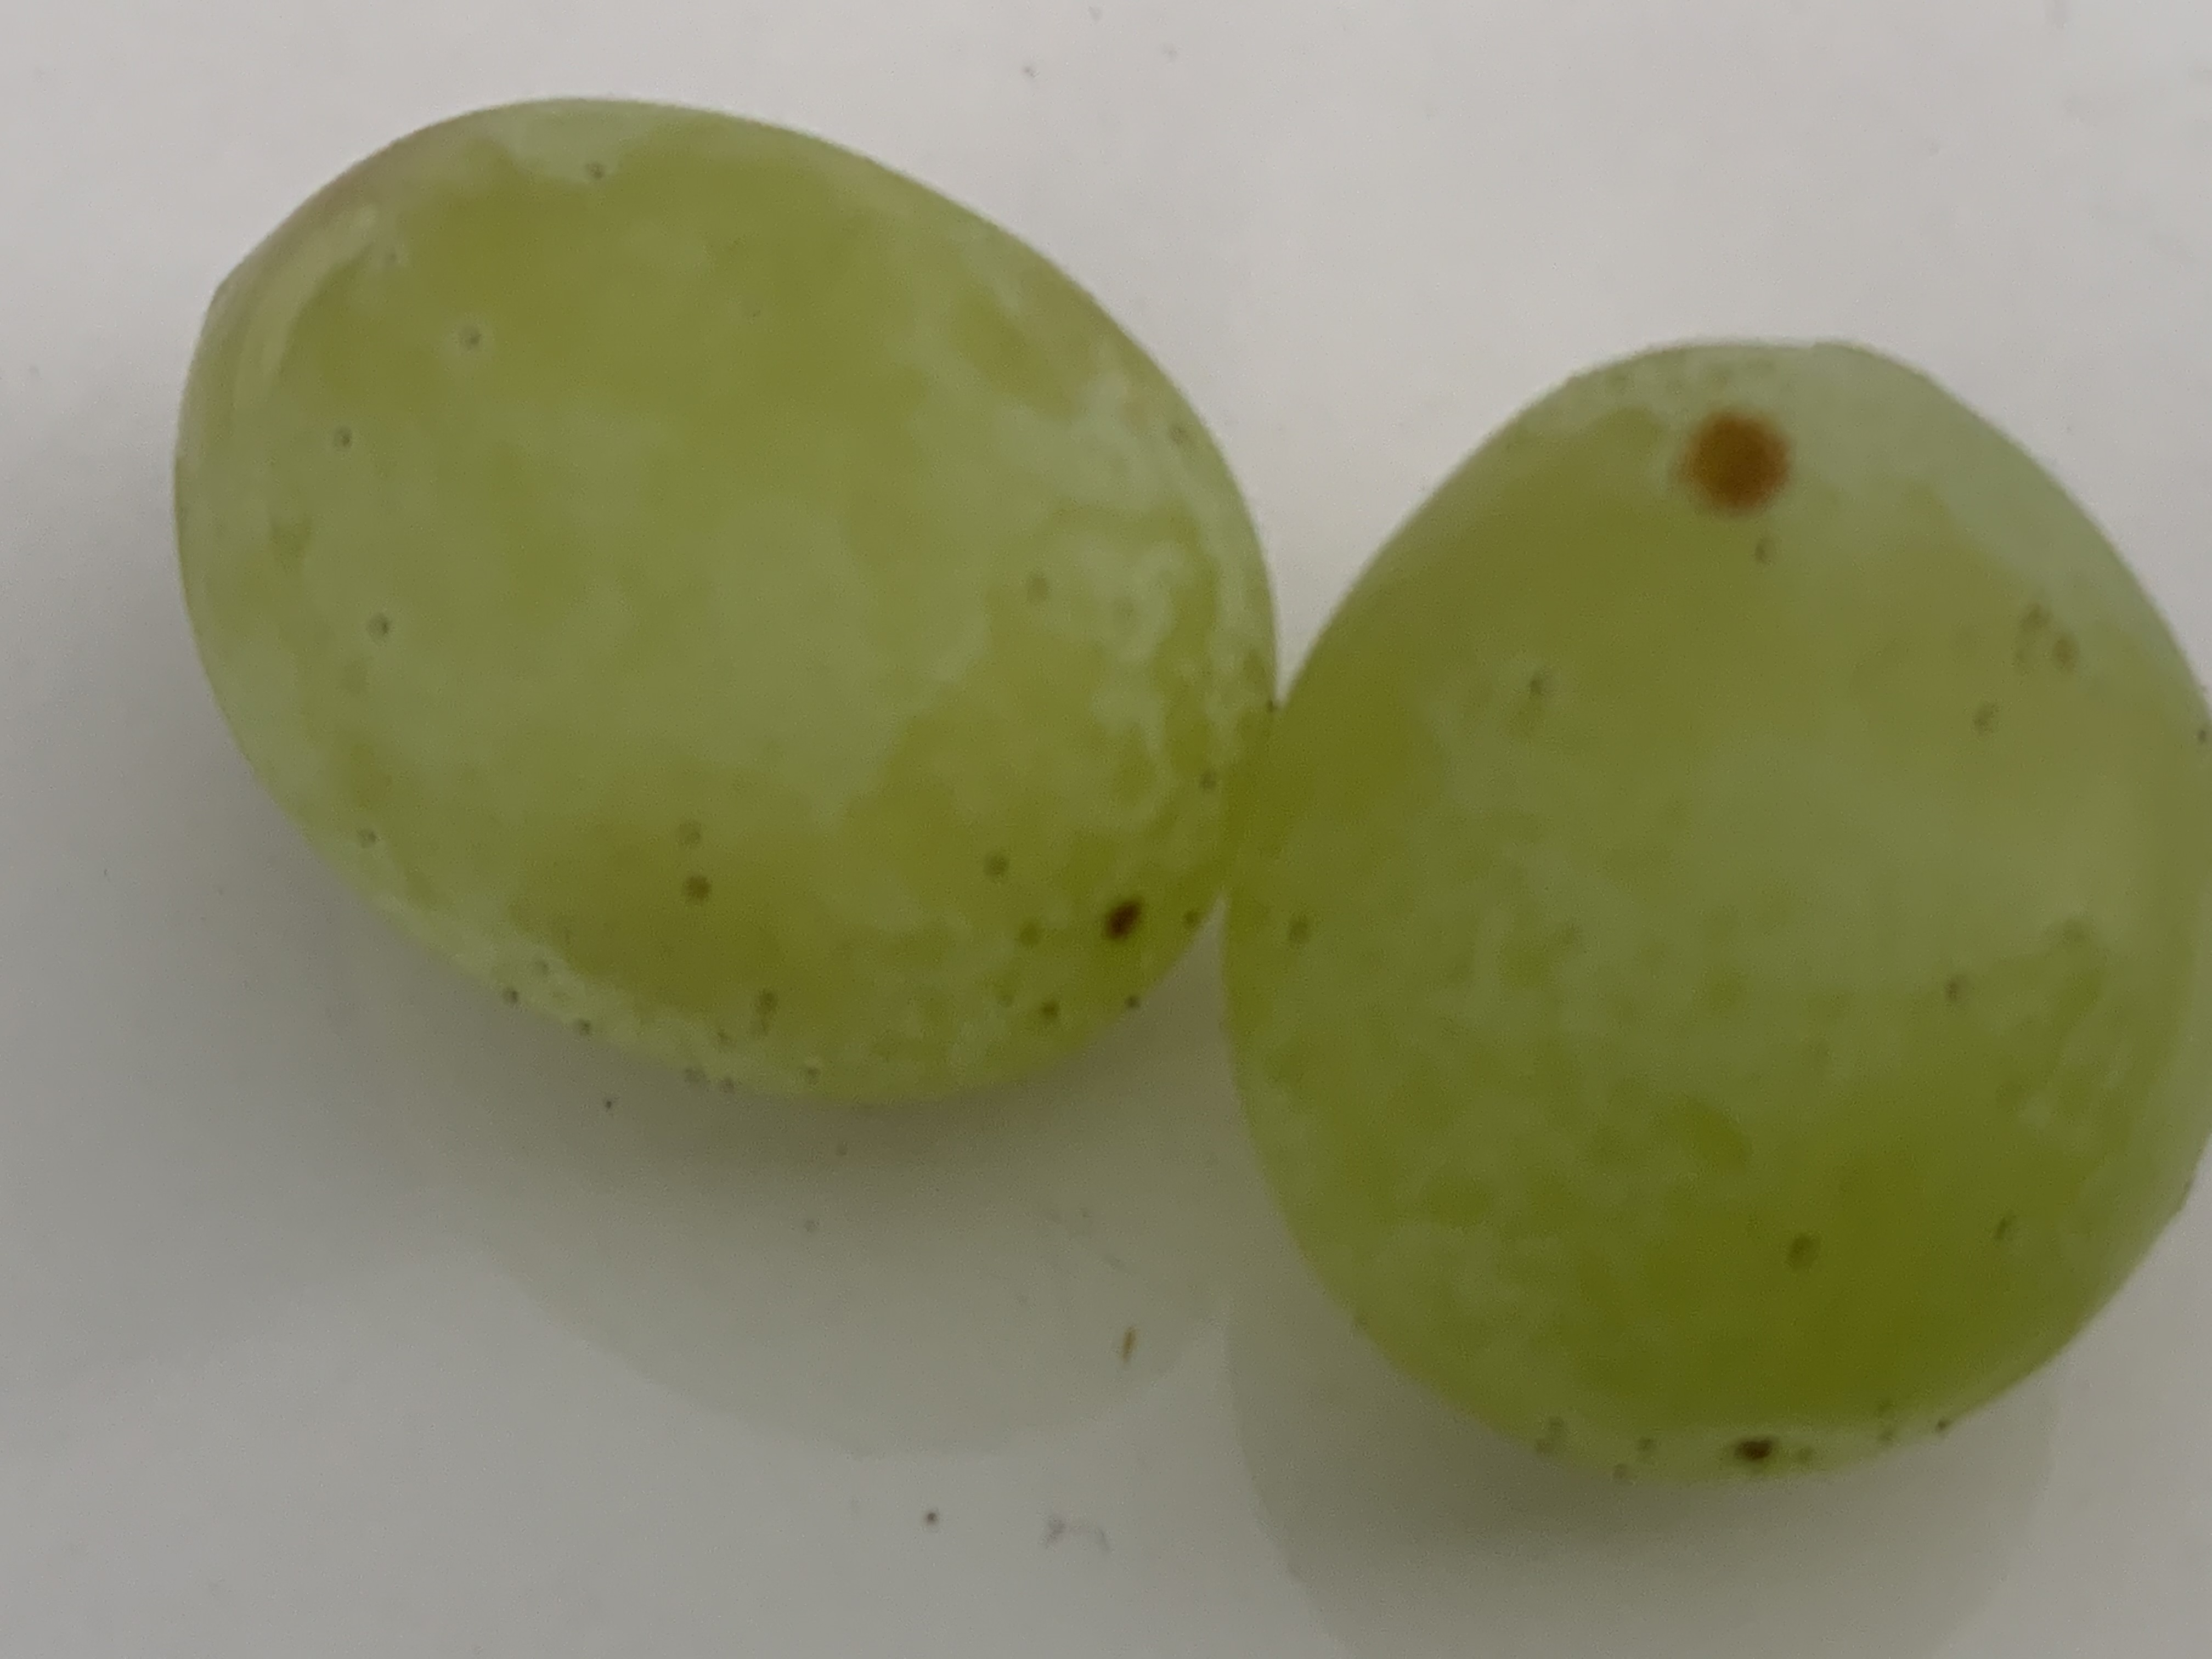grapes: (1242, 333, 2212, 1504), (190, 94, 1245, 1107)
